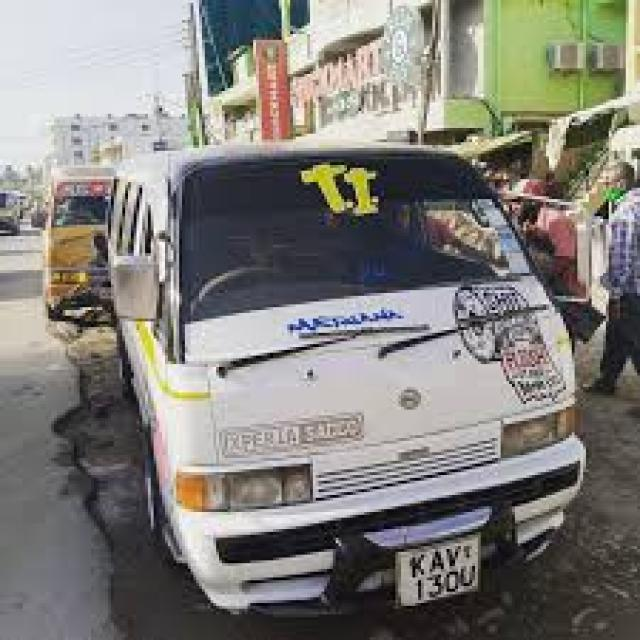matatu: (65, 100, 640, 626)
